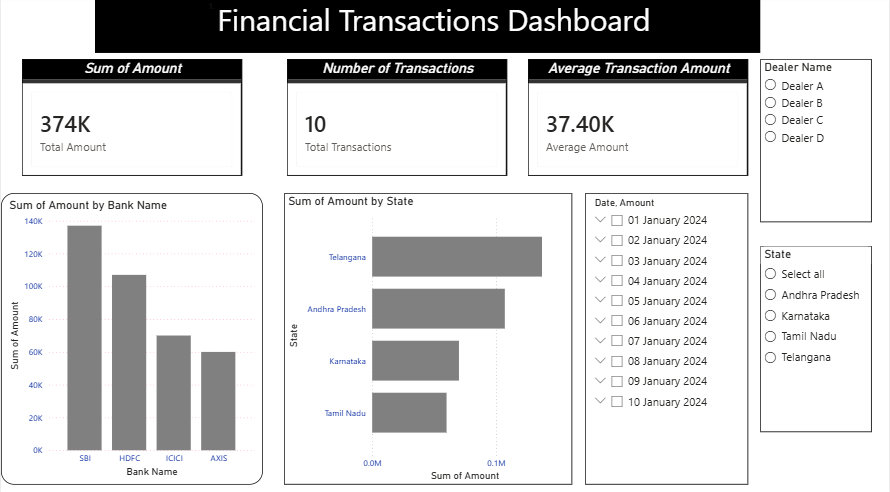

The dashboard page shown, as its layout file describes it:
{"tool":"powerbi","page":{"name":"Page 1","canvas":[1280,720],"ordinal":0},"visuals":[{"type":"cardVisual","title":"Number of Transactions","fields":{"Data":["financial transaction.Total Transactions"]},"box":[308.2,92.2,267.8,172.8],"z":0},{"type":"cardVisual","title":"Average Transaction Value","fields":{"Data":["financial transaction.Average Amount"]},"box":[622.1,92.2,345.6,172.8],"z":1000},{"type":"clusteredColumnChart","fields":{"Category":["financial transaction.Bank Name"],"Y":["Sum(financial transaction.Amount)"]},"box":[0,299.5,377.3,420.5],"z":2000},{"type":"clusteredBarChart","fields":{"Category":["financial transaction.State"],"Y":["Sum(financial transaction.Amount)"]},"box":[400.3,299.5,414.7,420.5],"z":3000},{"type":"cardVisual","title":"Total Transaction Amount","fields":{"Data":["Sum(financial transaction.Amount)"]},"box":[0,92.2,270.7,172.8],"z":4000},{"type":"slicer","fields":{"Values":["financial transaction.Date","financial transaction.Amount"]},"box":[841,299.5,252,420.5],"z":5000},{"type":"listSlicer","fields":{"Values":["financial transaction.State"]},"box":[1118.9,452.2,161.3,267.8],"z":6000},{"type":"listSlicer","fields":{"Values":["financial transaction.Dealer Name"]},"box":[1118.9,90.7,161.3,348.5],"z":7000},{"type":"textbox","box":[135.4,0,957.6,82.1],"z":8000}]}

Visuals, with their boxes in screenshot pixels (x1, y1, x2, y2), scaled from the page's 1280x720 canvas onto the 890x492 screenshot:
"Number of Transactions" cardVisual: 214/63/400/181
"Average Transaction Value" cardVisual: 433/63/673/181
clusteredColumnChart - financial transaction.Bank Name x Sum(financial transaction.Amount): 0/205/262/491
clusteredBarChart - financial transaction.State x Sum(financial transaction.Amount): 278/205/567/491
"Total Transaction Amount" cardVisual: 0/63/188/181
slicer - financial transaction.Date x financial transaction.Amount: 585/205/760/491
listSlicer - financial transaction.State: 778/309/889/491
listSlicer - financial transaction.Dealer Name: 778/62/889/300
textbox: 94/0/760/56
